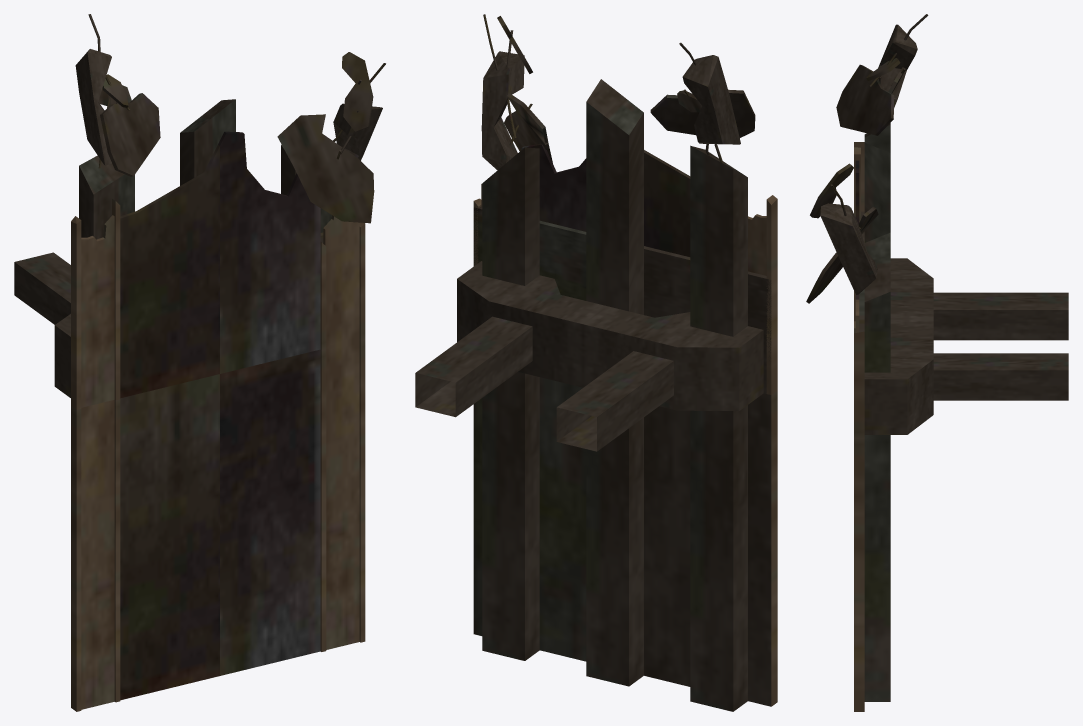
The model's file is Bridge_02.fbx.
3 renders of one model, left to right at view 1: azimuth 30°, elevation 25°; view 2: azimuth 150°, elevation 25°; view 3: azimuth 270°, elevation 25°, orthographic. The views are drawn at different scales.
Visible parts, largest first — view 1: Bridge_Damage_A:Bridge_Damage_A_0; view 2: Bridge_Damage_A:Bridge_Damage_A_0; view 3: Bridge_Damage_A:Bridge_Damage_A_0.
Part boxes in pixels (left/top/right/bottom): Bridge_Damage_A:Bridge_Damage_A_0: left=14, top=14, right=385, bottom=711; Bridge_Damage_A:Bridge_Damage_A_0: left=415, top=14, right=777, bottom=711; Bridge_Damage_A:Bridge_Damage_A_0: left=806, top=14, right=1068, bottom=711.
Bounding box in the file's own units: 15.46 × 32.57 × 13.05.
Materials: 1 (1 with a texture image).
